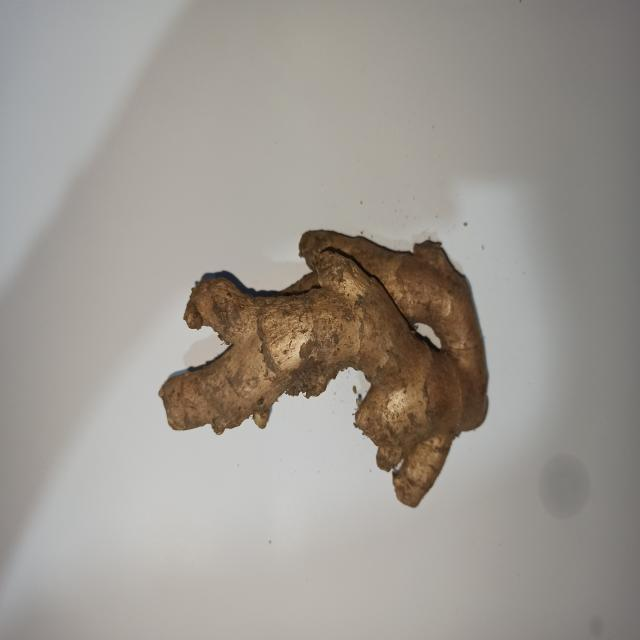ginger: (169, 230, 486, 490)
